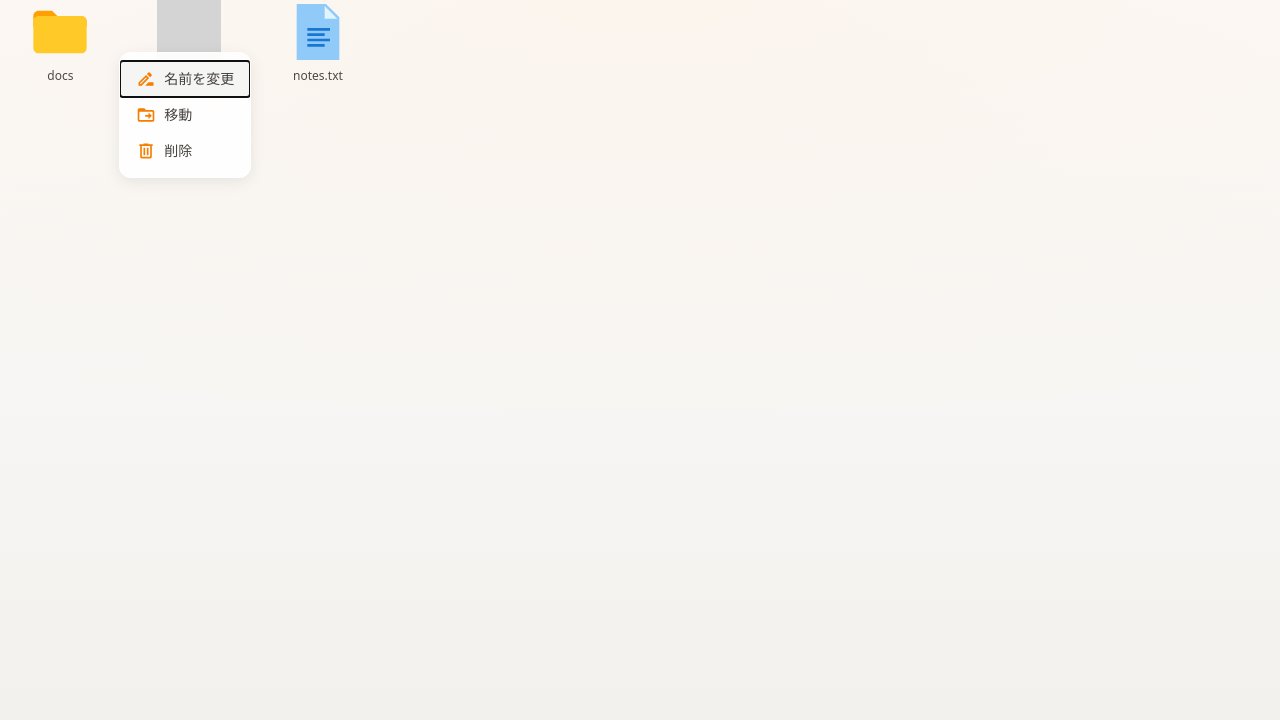
FileList › context menu › opens the rename dialog from the context menu
This screenshot has width=1280, height=720.
Click the menu item "名前を変更" at [185, 79], box [120,61,250,97]
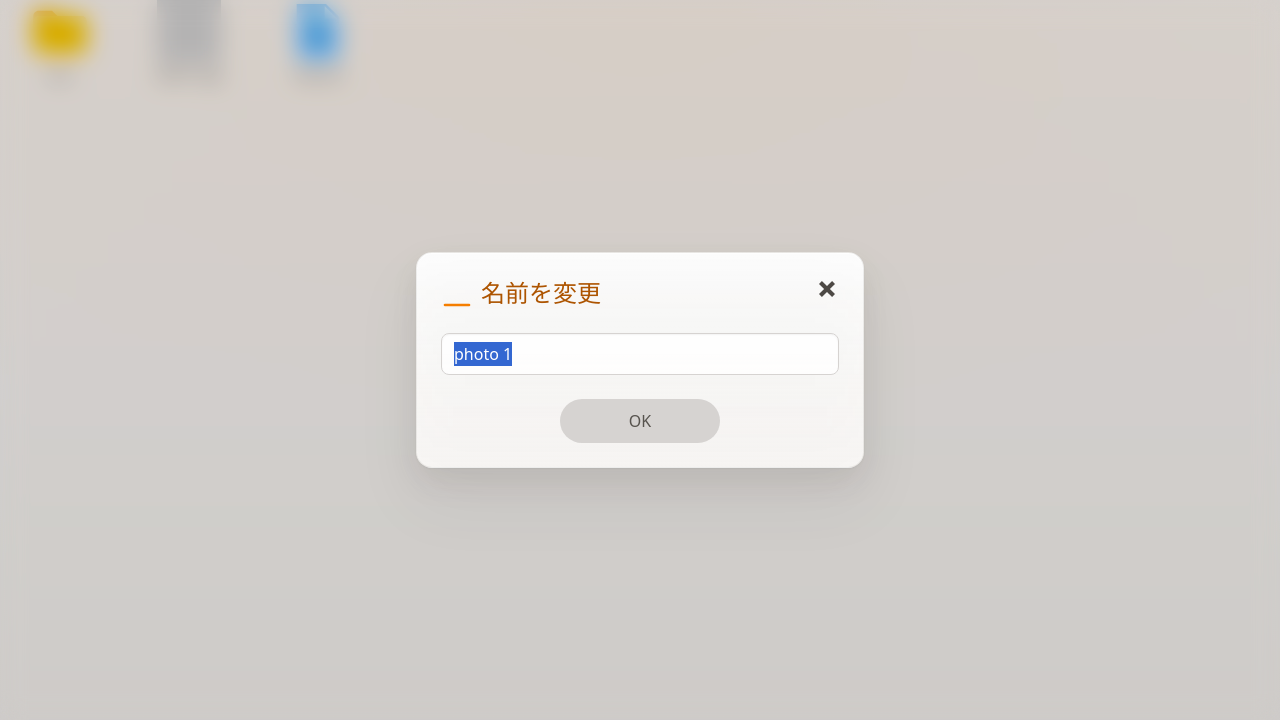
Expected: the dialog is shown, [416,252,864,468]
Expected: the menu is gone
